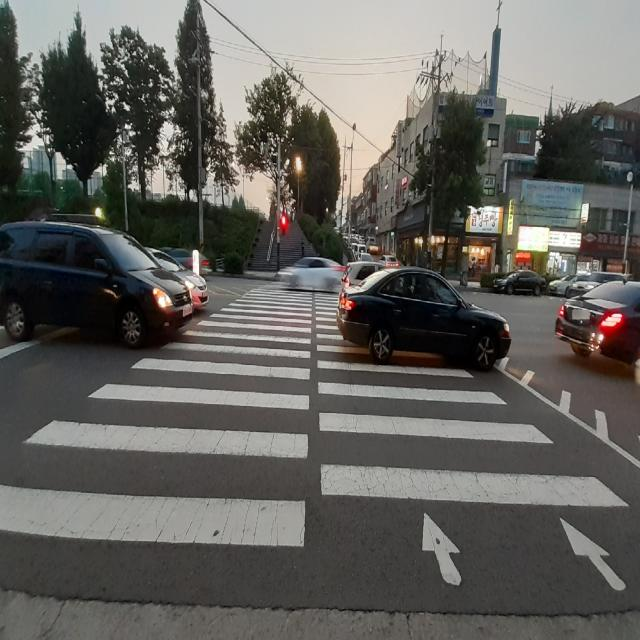빨간불: (281, 216, 286, 234)
횡단보도: (0, 275, 638, 602)
